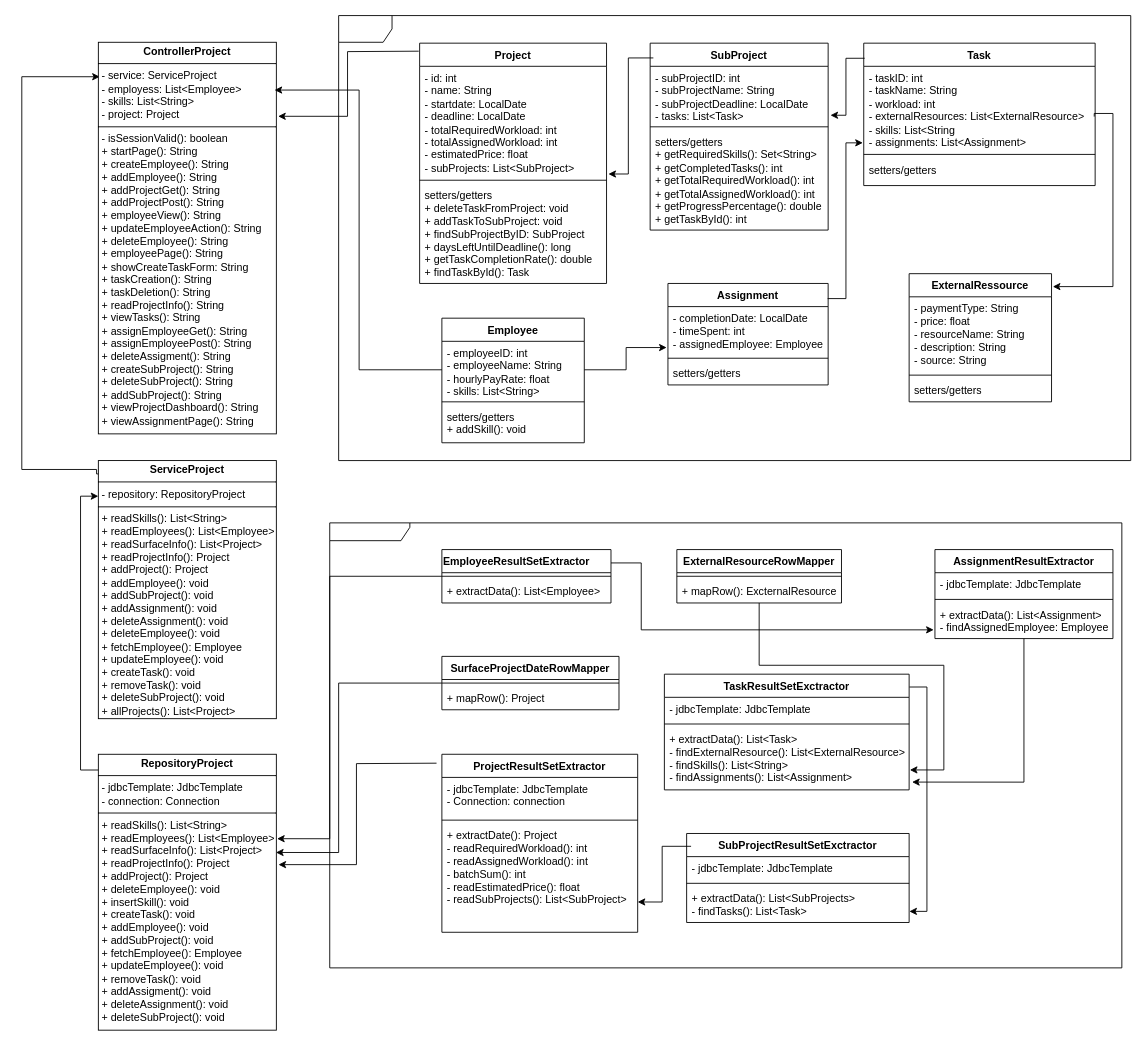
Image size: 1146x1046. Some labels were removed from this diagram. The shapes that lost their labels are listed below. From the top down, each one's centre as x and y in pixels, then its label:
[734,238]: model
[725,745]: DataExtractors
